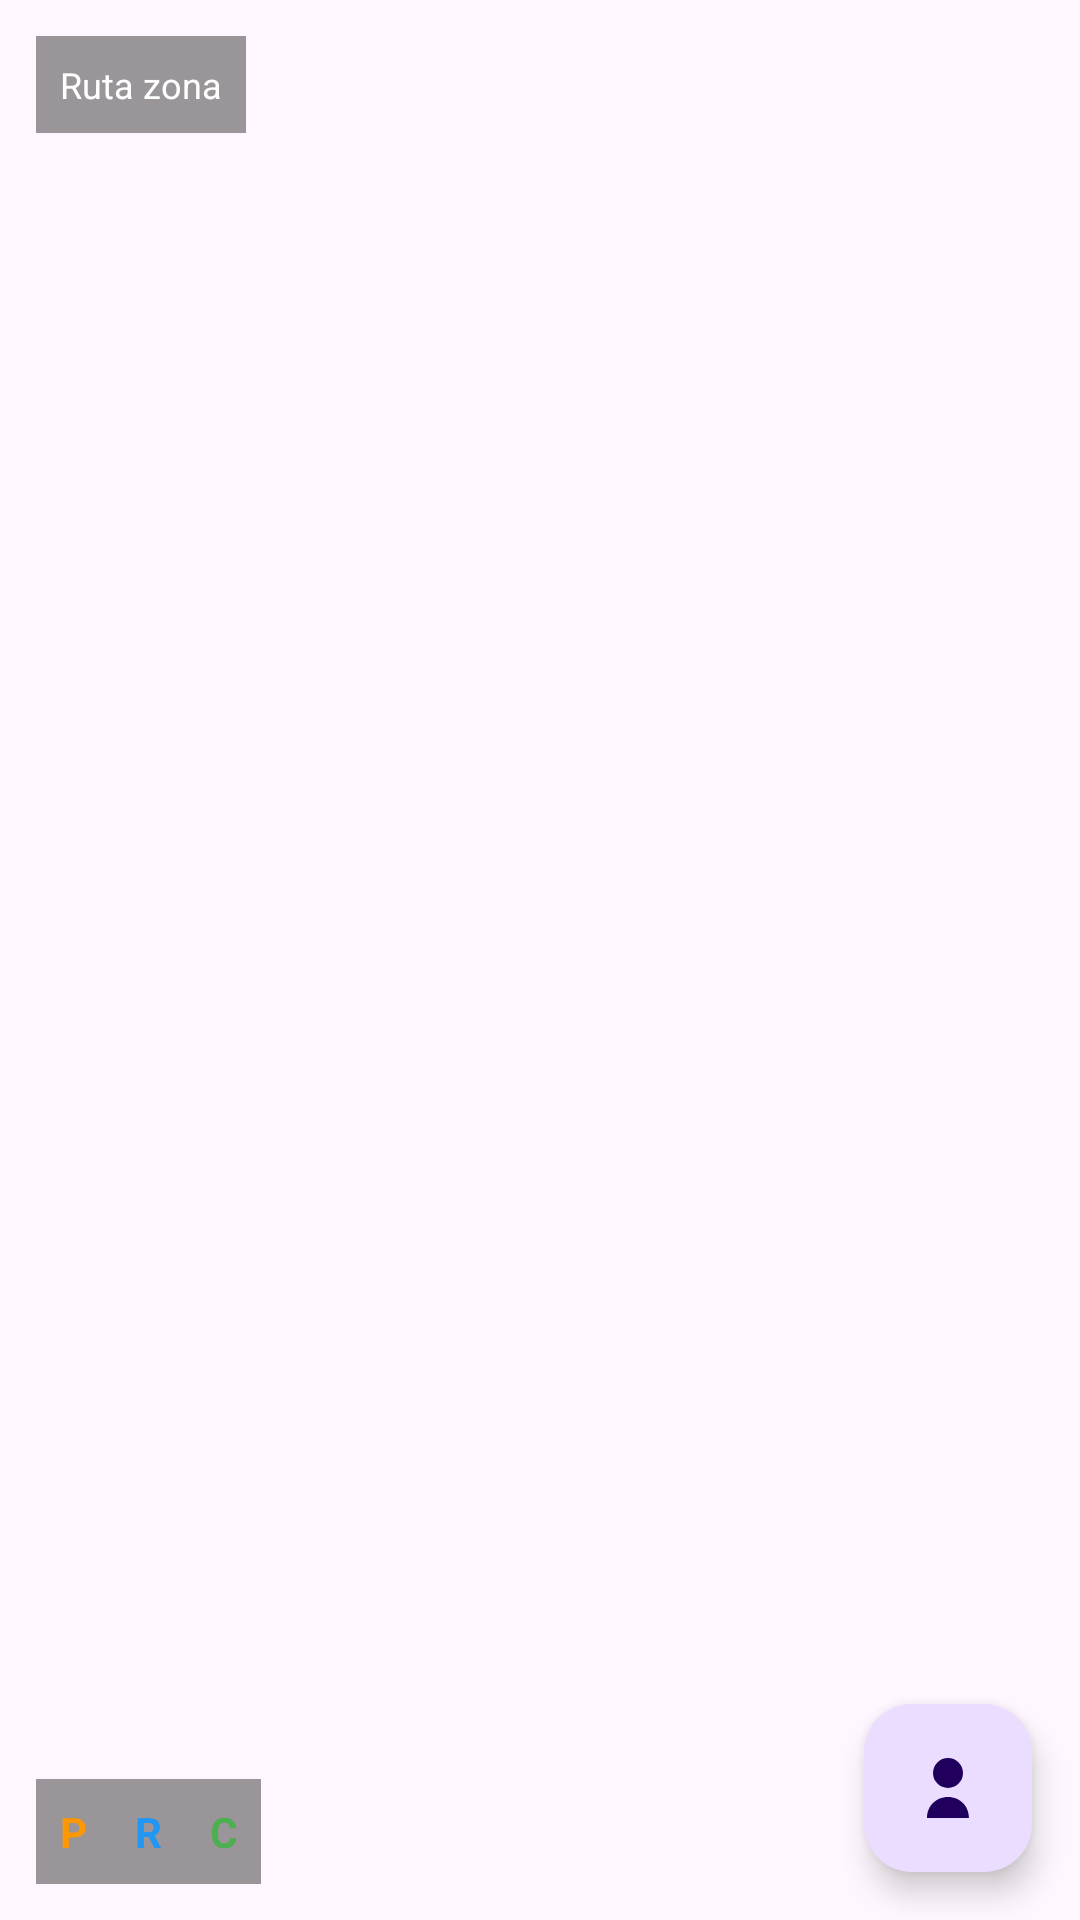

Icons on this 1080×1920 Android screen, each with its box as (x1, y1, x2, y2):
Seguir recolector: (864, 1704, 1032, 1872)
